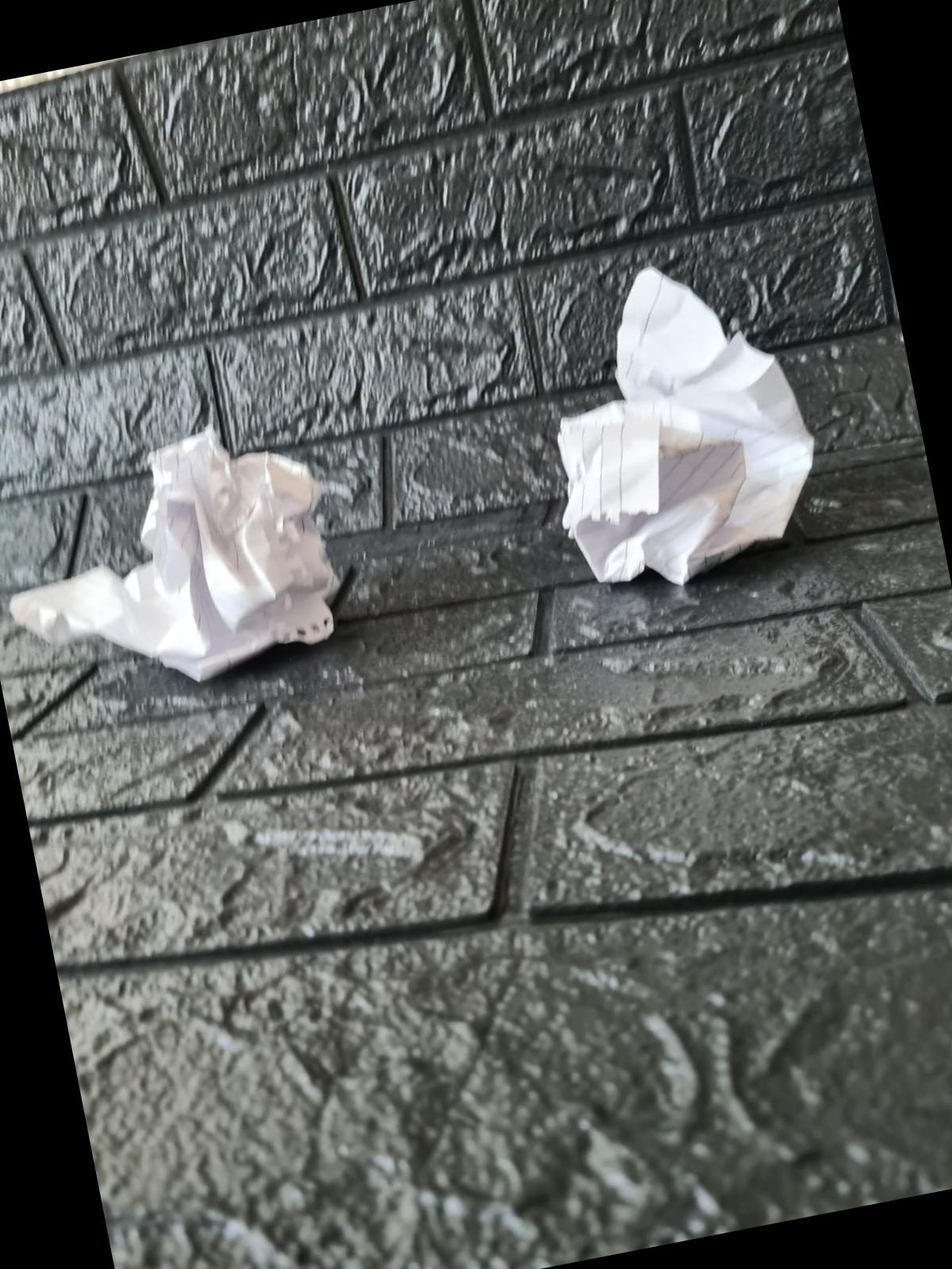Kertas: (16, 427, 338, 680), (558, 267, 813, 583)
